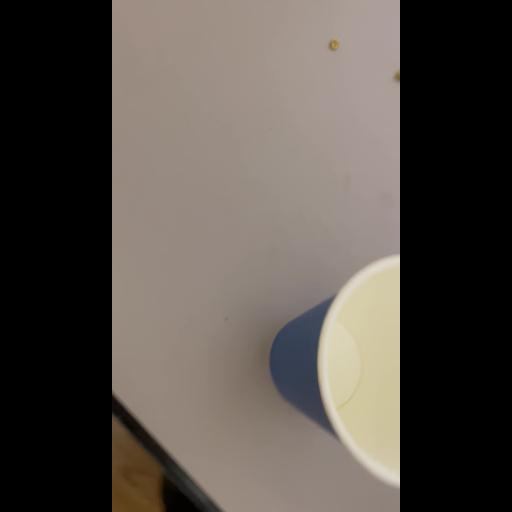lp_paper_cup: (254, 252, 400, 512)
